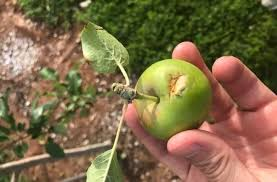damaged_apple: (134, 57, 213, 139)
